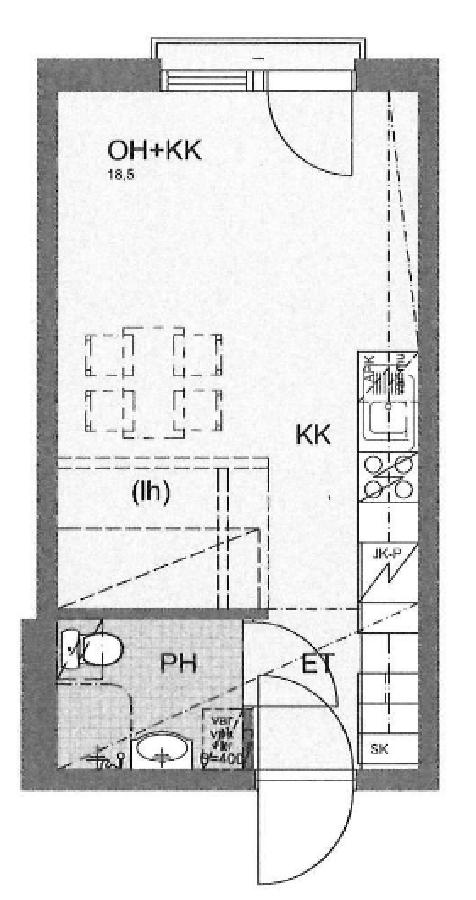door: (254, 669, 360, 892), (236, 618, 351, 712), (264, 70, 359, 182)
window: (163, 65, 256, 94)
zone: (53, 88, 411, 608), (245, 606, 419, 769), (61, 622, 243, 767)
